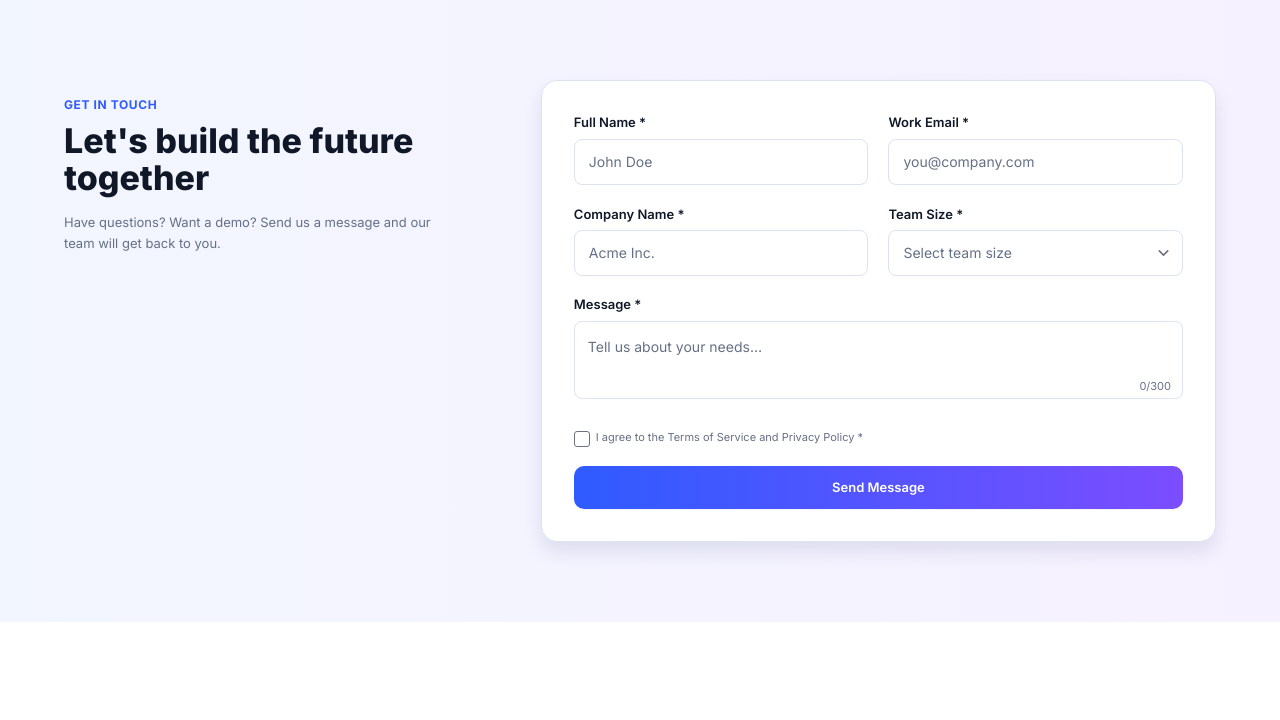
Test case: Contact › validation › rejects a name that is too short
Type "J" into the field labelled "Full Name" at (721, 162), box [574,138,868,184]
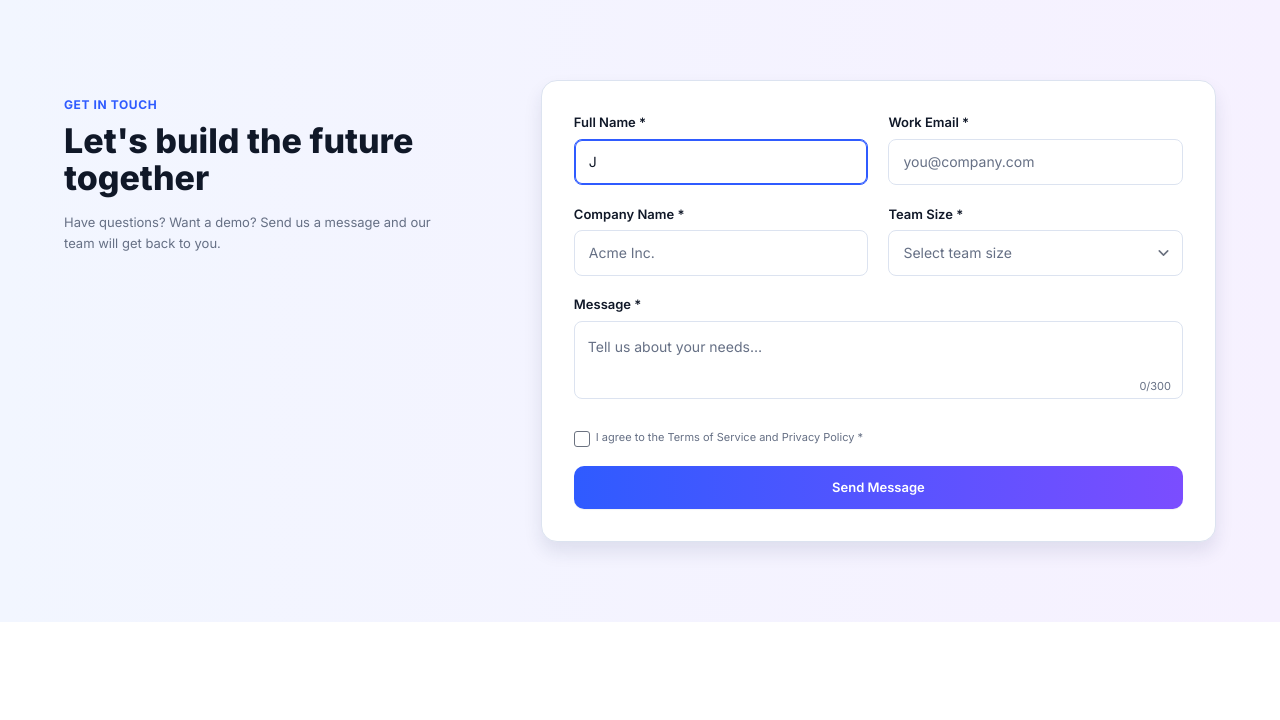
Press Tab
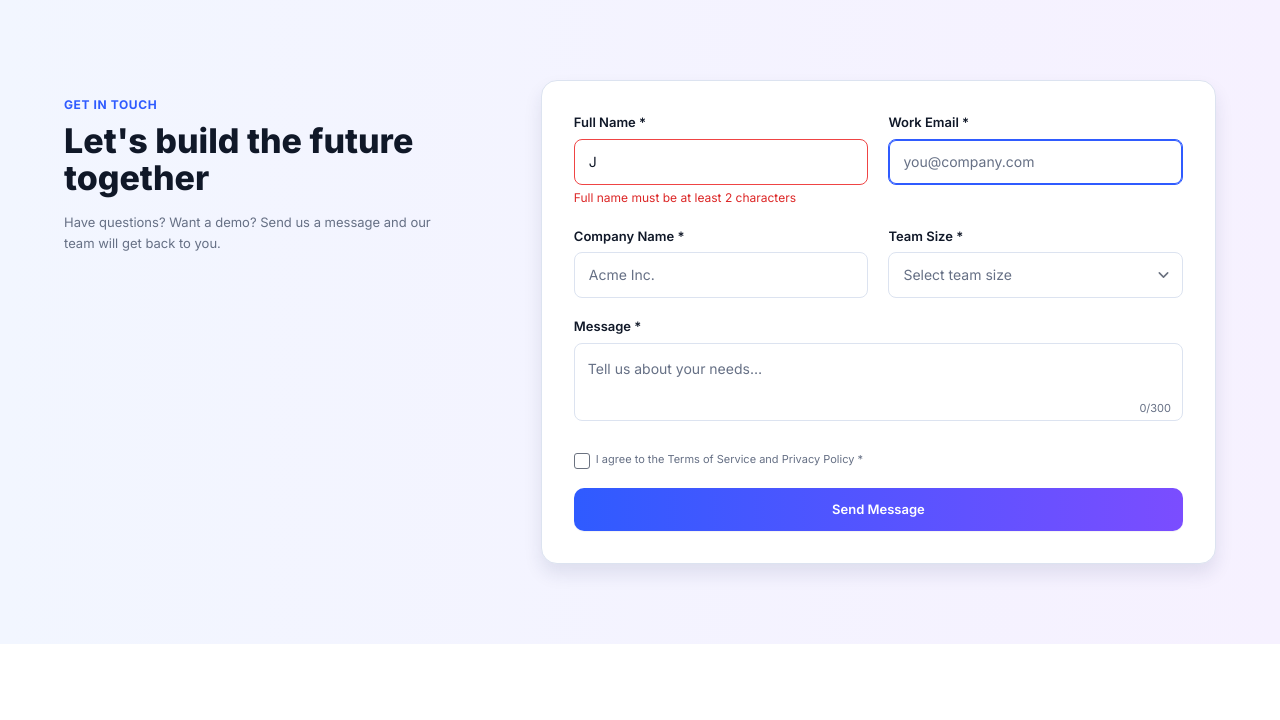
Expected: the text "Full name must be at least 2 characters" is shown, [574,190,796,204]
